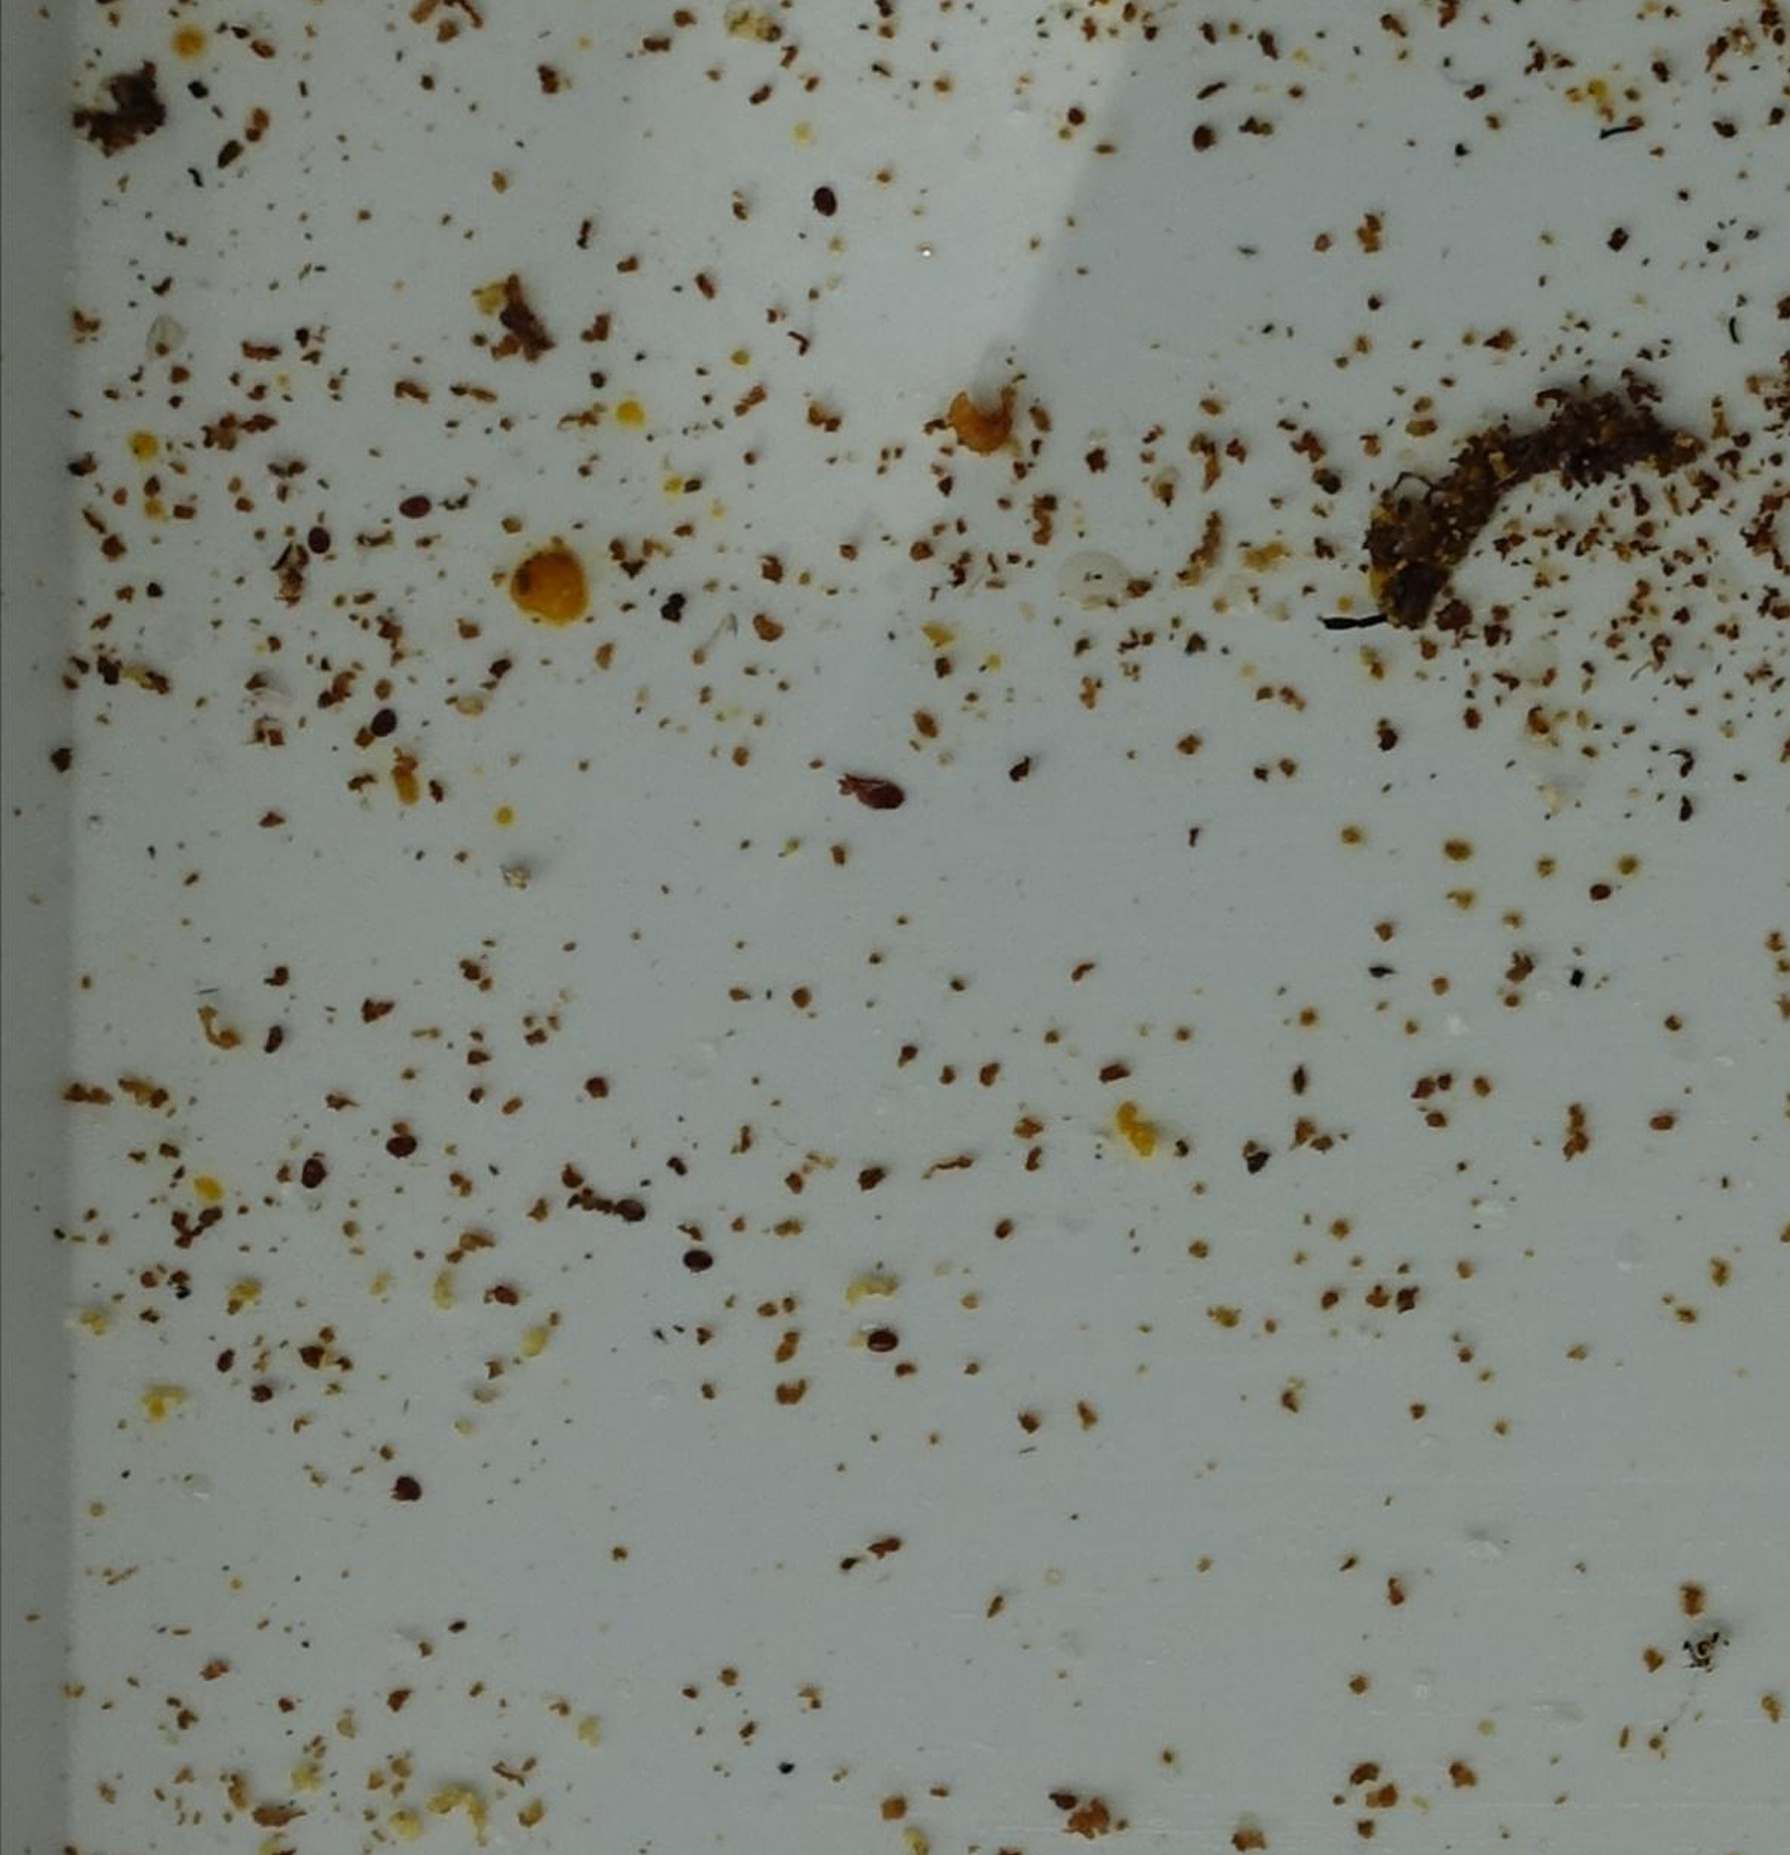Varroa: (248, 1019, 293, 1062), (868, 1328, 901, 1363), (298, 1154, 333, 1188), (392, 1474, 424, 1507), (397, 495, 429, 528), (1187, 121, 1217, 152), (810, 187, 840, 219), (618, 1189, 646, 1221), (389, 1128, 417, 1158), (305, 527, 333, 556), (371, 711, 397, 739), (686, 1245, 710, 1272)
